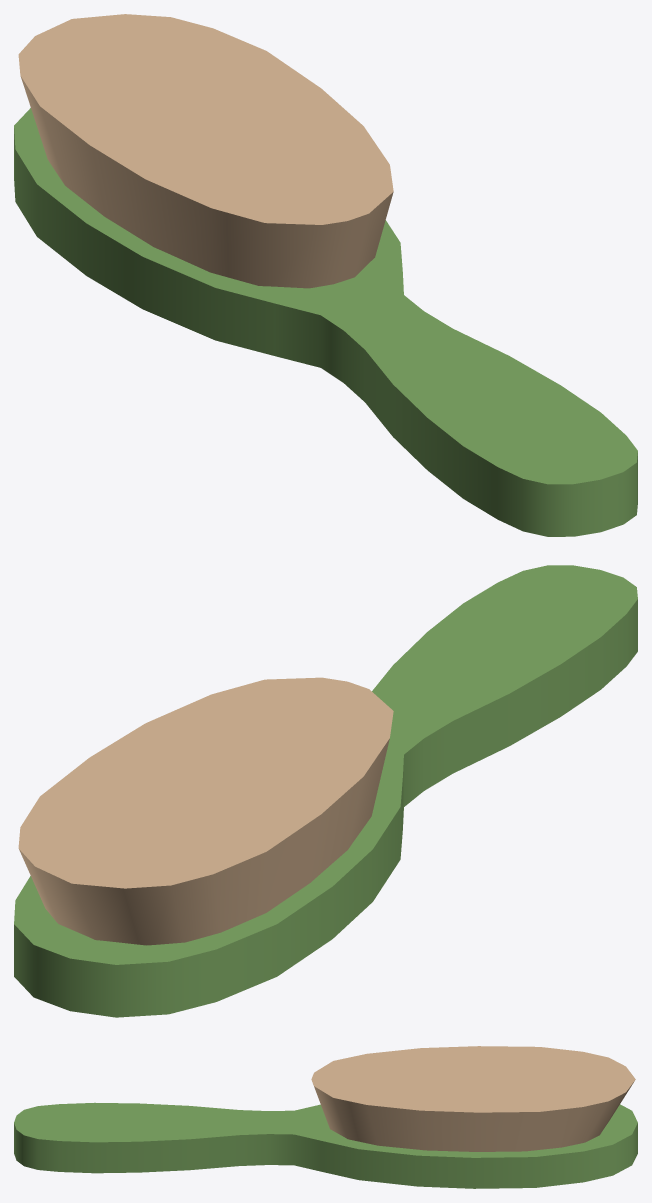
Rendered from Brush_01.fbx.
3 renders of one model, top to bottom at view 1: azimuth 30°, elevation 25°; view 2: azimuth 150°, elevation 25°; view 3: azimuth 270°, elevation 25°, orthographic. The views are drawn at different scales.
Visible parts, largest first — view 1: Brush_01; view 2: Brush_01; view 3: Brush_01.
Boxes of the visible parts, x1,y1,x2,y2 form: Brush_01: [14, 14, 637, 536]; Brush_01: [14, 565, 637, 1017]; Brush_01: [14, 1046, 637, 1188].
Size of the model in its own units: 0.0652 by 0.0319 by 0.2434.
